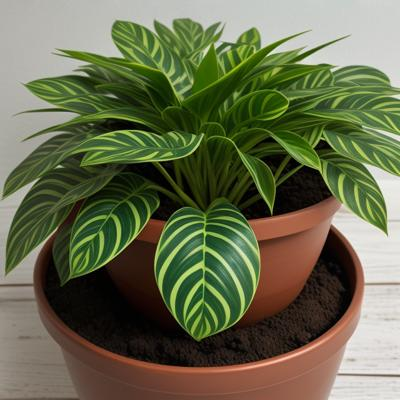pottedplant: (4, 16, 400, 400)
